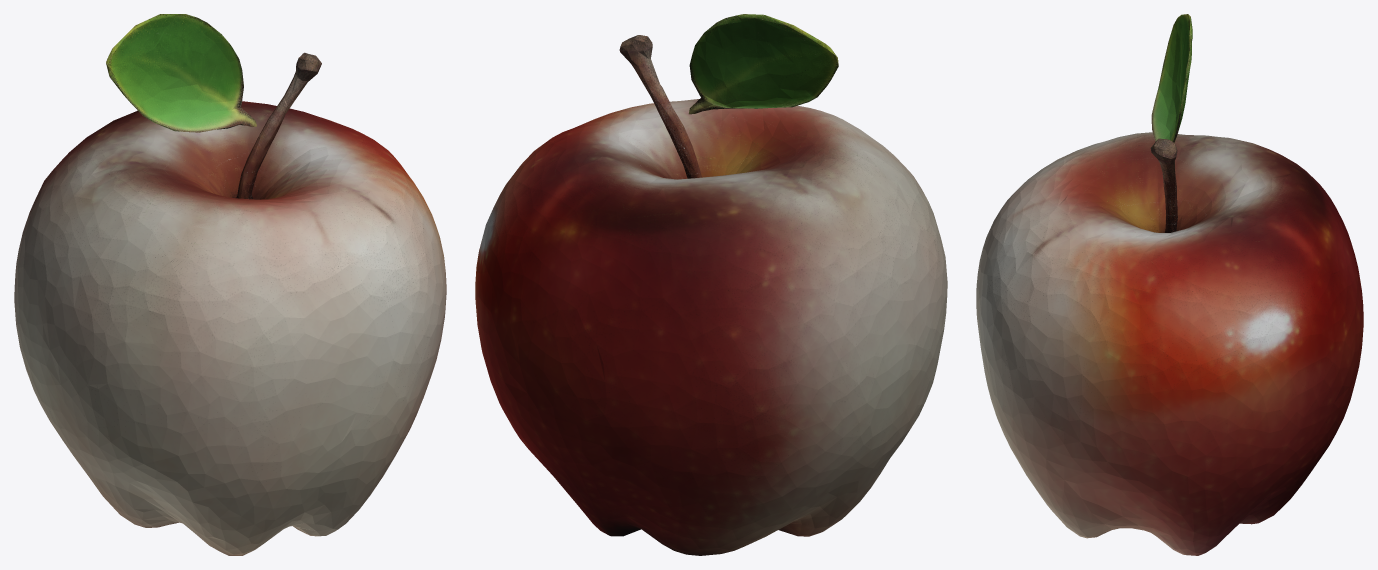
The model's file is apple.glb.
3 views of the same model, side by side, from view 1: azimuth 30°, elevation 25°; view 2: azimuth 150°, elevation 25°; view 3: azimuth 270°, elevation 25° (orthographic). The views are drawn at different scales.
Visible parts, largest first — view 1: world; view 2: world; view 3: world.
Boxes of the visible parts, <box> form: world: <box>14,14,446,555</box>; world: <box>475,14,947,555</box>; world: <box>976,14,1363,555</box>.
Size of the model in its own units: 0.4052 by 0.5279 by 0.3934.
1 material, 1 textured.
